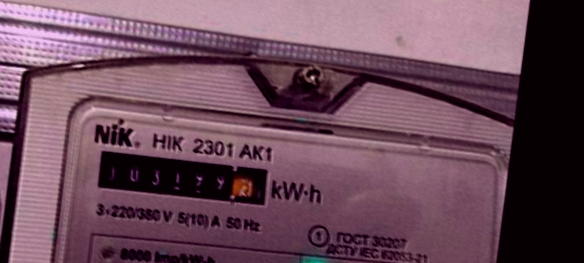0: (126, 166, 140, 186), (103, 164, 115, 183)
1: (170, 168, 182, 187)
3: (148, 169, 160, 190)
6: (235, 185, 247, 200)
9: (191, 170, 204, 191), (213, 175, 225, 194)
screen: (88, 141, 275, 218)
